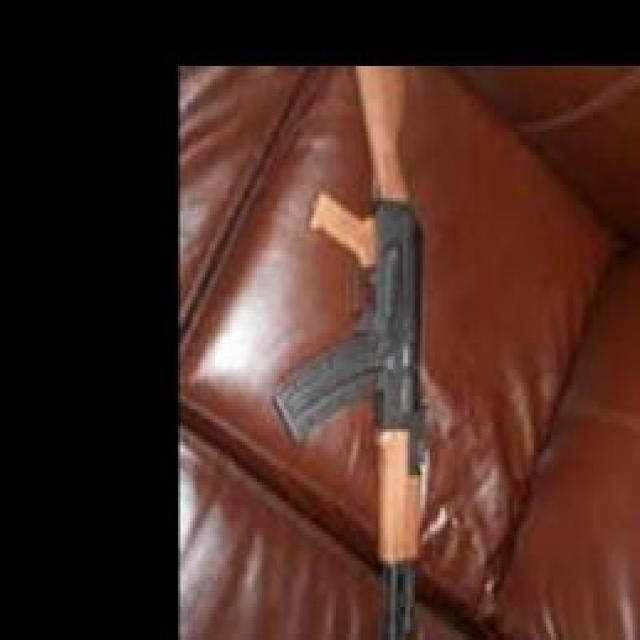weapon: (272, 67, 432, 640)
